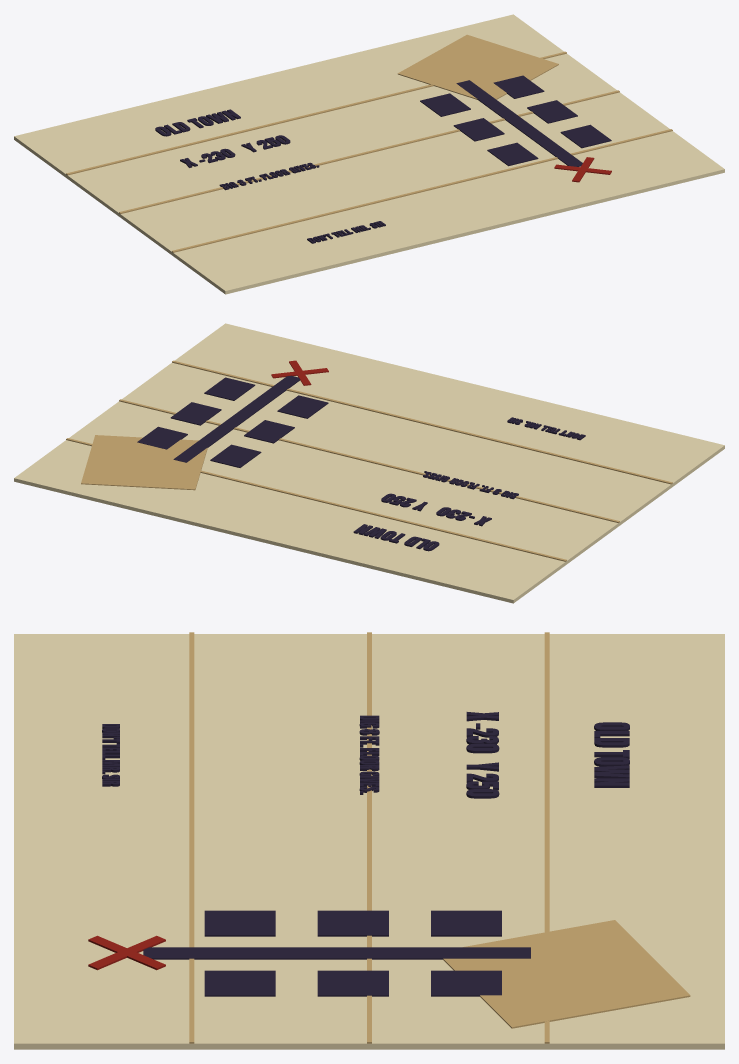
Rendered from WardenNote.glb.
3 renders of one model, top to bottom at view 1: azimuth 30°, elevation 25°; view 2: azimuth 150°, elevation 25°; view 3: azimuth 270°, elevation 25°, orthographic. The views are drawn at different scales.
Visible parts, largest first — view 1: WardenNote.001; view 2: WardenNote.001; view 3: WardenNote.001.
Part boxes in pixels (x1,y1,x2,y2): WardenNote.001: [14, 14, 724, 294]; WardenNote.001: [14, 323, 724, 603]; WardenNote.001: [14, 632, 724, 1049].
Bounding box in the file's own units: 0.9 × 0.009 × 0.66.
